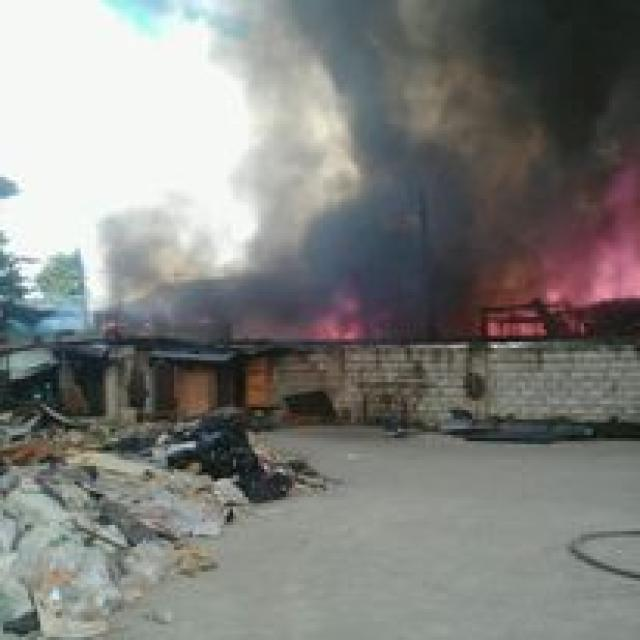Fire: (455, 145, 640, 345), (302, 286, 371, 344)
Smoke: (195, 0, 640, 343)
